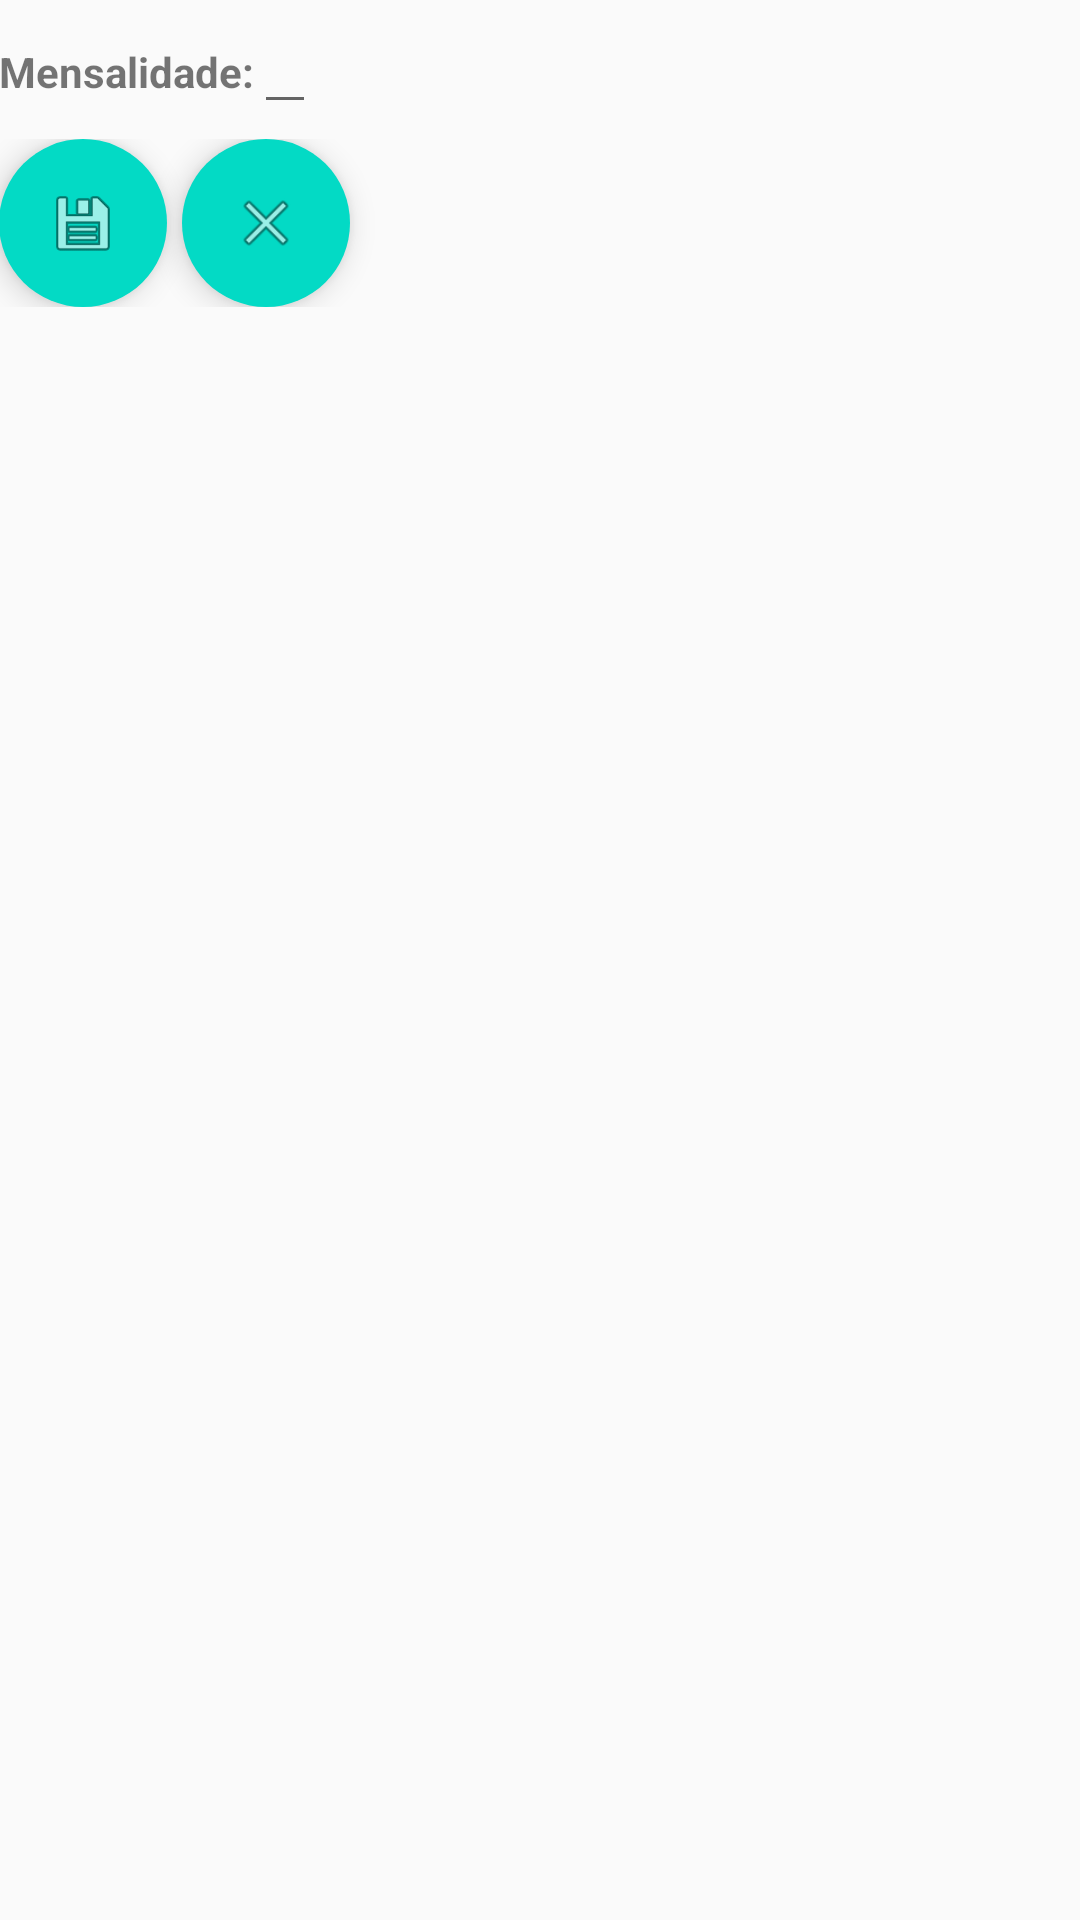

Icons on this 1080*1920 Android screen, each with its box as (x1, y1, x2, y2):
close clear cancel: (182, 139, 350, 307)
save: (0, 139, 167, 307)
